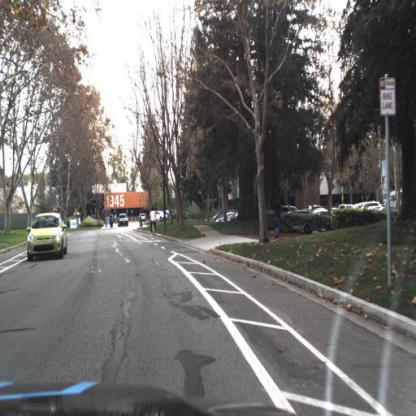biker: (148, 207, 158, 241), (150, 208, 158, 239), (140, 216, 145, 228)
car: (26, 210, 70, 262), (270, 193, 283, 240), (118, 214, 130, 228)
pedestrian: (106, 213, 116, 230)
